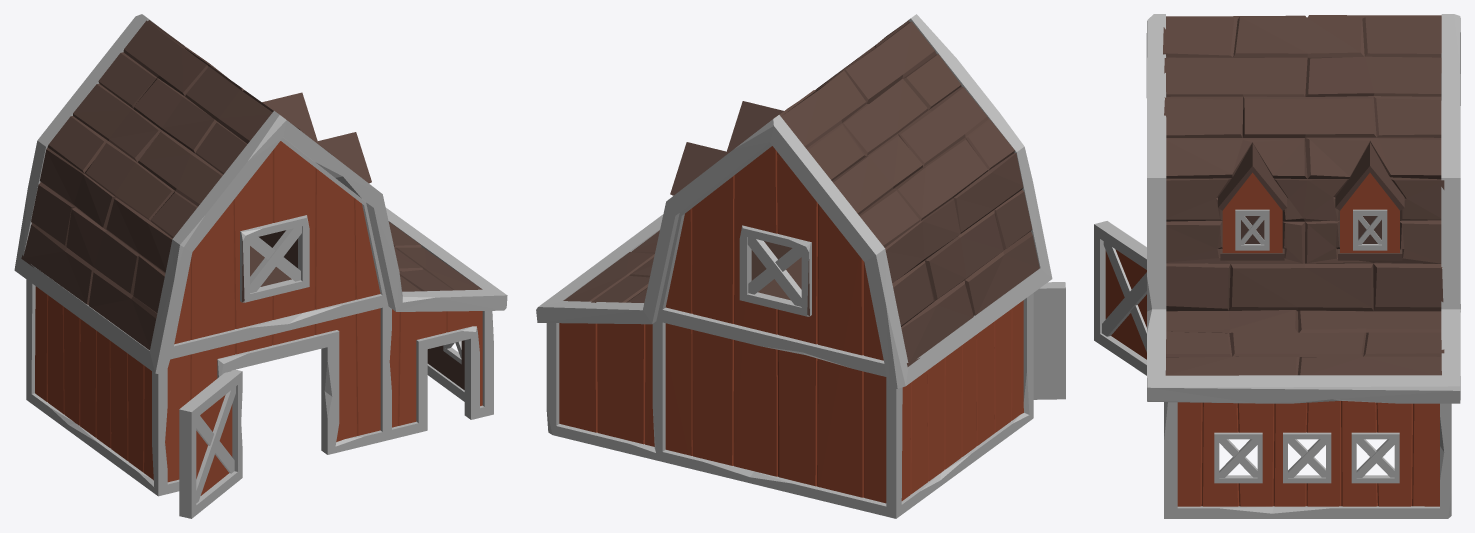
Rendered from Comida4.fbx.
The picture shows the model from 3 angles, left to right: view 1: azimuth 30°, elevation 25°; view 2: azimuth 150°, elevation 25°; view 3: azimuth 270°, elevation 25°; orthographic projection. The views are drawn at different scales.
Visible parts, largest first — view 1: Stable_2; view 2: Stable_2; view 3: Stable_2.
Part boxes in pixels (x1,y1,x2,y2): Stable_2: (14, 14, 507, 518); Stable_2: (536, 14, 1065, 518); Stable_2: (1094, 14, 1460, 518).
Bounding box in the file's own units: 285 × 276 × 236.
